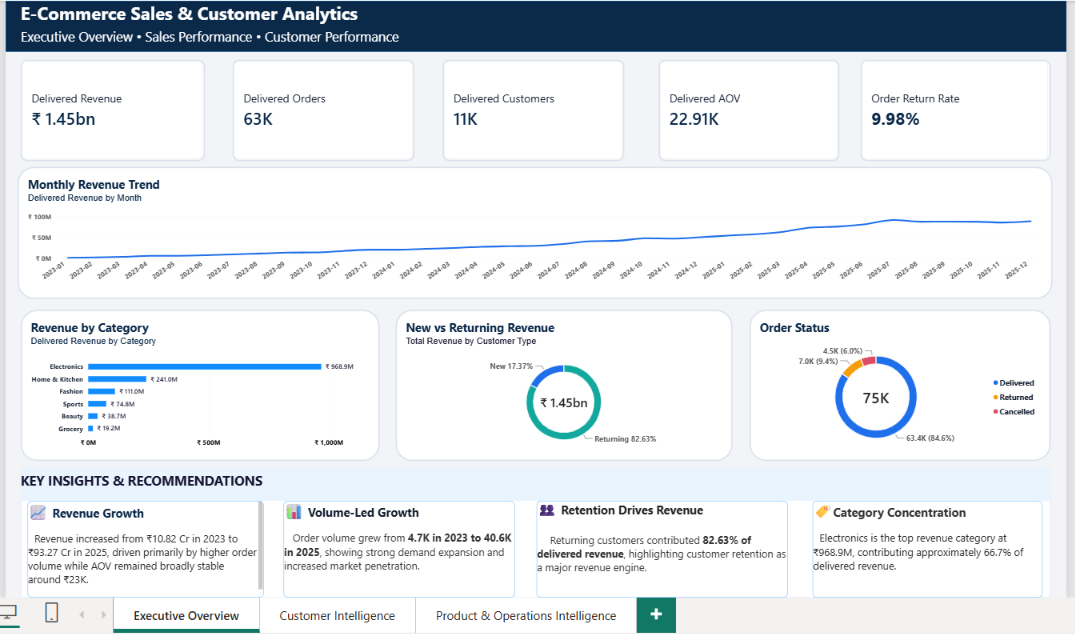

This screenshot's page, from the dashboard's own definition file:
{"tool":"powerbi","page":{"name":"Executive Overview","canvas":[1920,1080],"ordinal":0},"visuals":[{"type":"lineChart","title":"Monthly Revenue Trend","fields":{"Category":["DateTable.Year Month"],"Y":["public orders.Total Revenue"]},"box":[21.7,300.4,1873,238.9],"z":0},{"type":"clusteredBarChart","title":"Revenue by Category","fields":{"Category":["public products.category"],"Y":["public orders.Total Revenue"]},"box":[27.1,559.2,649.7,273.3],"z":1000},{"type":"donutChart","title":"New vs Returning Revenue","fields":{"Category":["public orders.Customer Type"],"Y":["public orders.Total Revenue"]},"box":[705.8,559.2,609.9,273.3],"z":2000},{"type":"donutChart","title":"Order Status","fields":{"Category":["public orders.order_status"],"Y":["CountNonNull(public orders.order_id)"]},"box":[1346.4,559.2,544.7,273.3],"z":3000},{"type":"cardVisual","fields":{"Data":["public orders.Total Revenue"]},"box":[26.6,106.6,333.3,183.3],"z":4000},{"type":"cardVisual","fields":{"Data":["public orders.Total Orders"]},"box":[410.5,106.6,329.1,183.3],"z":5000},{"type":"cardVisual","fields":{"Data":["public orders.Total Customers"]},"box":[790.1,106.6,329.1,183.3],"z":6000},{"type":"cardVisual","fields":{"Data":["public orders.Average Order Value"]},"box":[1181.7,106.8,327,183.3],"z":7000},{"type":"cardVisual","fields":{"Data":["public orders.Return Rate"]},"box":[1547.4,106.6,343.7,183.3],"z":8000},{"type":"shape","box":[0,0,1920.4,92.2],"z":9000},{"type":"textbox","box":[26.6,0,705,92.2],"z":10000},{"type":"shape","box":[27.1,845.1,1864,235.3],"z":11000},{"type":"textbox","box":[27.1,845.1,1864,59.7],"z":12000},{"type":"textbox","box":[39.8,904.8,360.1,175.5],"z":13000},{"type":"textbox","box":[39.8,904.8,427.1,175.5],"z":14000},{"type":"textbox","box":[503.1,904.8,418,175.5],"z":15000},{"type":"textbox","box":[1460.4,904.8,416.2,175.5],"z":16000},{"type":"textbox","box":[960.9,904.8,454.2,175.5],"z":17000}]}

Visuals, with their boxes on the page's 1920x1080 design canvas (x1, y1, x2, y2). These are canvas units, not pixel positions in the 1075x634 screenshot, which may show the page scaled, cropped or inside an application window:
"Monthly Revenue Trend" lineChart: bbox=[22, 300, 1895, 539]
"Revenue by Category" clusteredBarChart: bbox=[27, 559, 677, 832]
"New vs Returning Revenue" donutChart: bbox=[706, 559, 1316, 832]
"Order Status" donutChart: bbox=[1346, 559, 1891, 832]
cardVisual - public orders.Total Revenue: bbox=[27, 107, 360, 290]
cardVisual - public orders.Total Orders: bbox=[410, 107, 740, 290]
cardVisual - public orders.Total Customers: bbox=[790, 107, 1119, 290]
cardVisual - public orders.Average Order Value: bbox=[1182, 107, 1509, 290]
cardVisual - public orders.Return Rate: bbox=[1547, 107, 1891, 290]
shape: bbox=[0, 0, 1920, 92]
textbox: bbox=[27, 0, 732, 92]
shape: bbox=[27, 845, 1891, 1080]
textbox: bbox=[27, 845, 1891, 905]
textbox: bbox=[40, 905, 400, 1080]
textbox: bbox=[40, 905, 467, 1080]
textbox: bbox=[503, 905, 921, 1080]
textbox: bbox=[1460, 905, 1877, 1080]
textbox: bbox=[961, 905, 1415, 1080]
